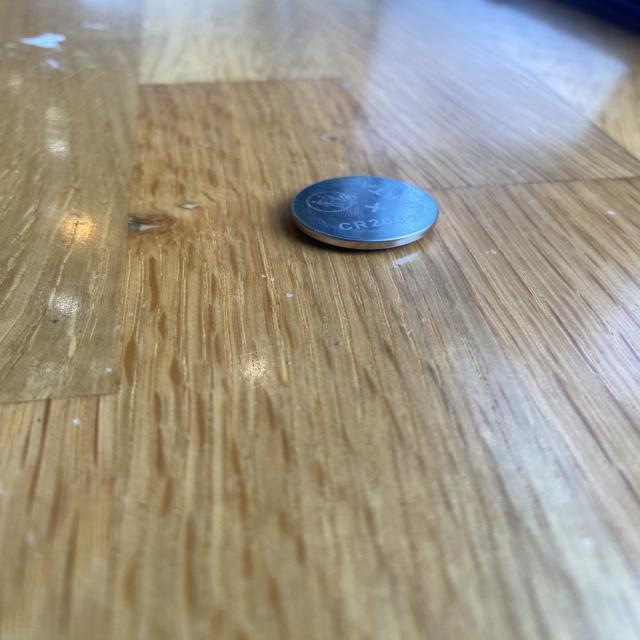COIN: (289, 174, 439, 250)
